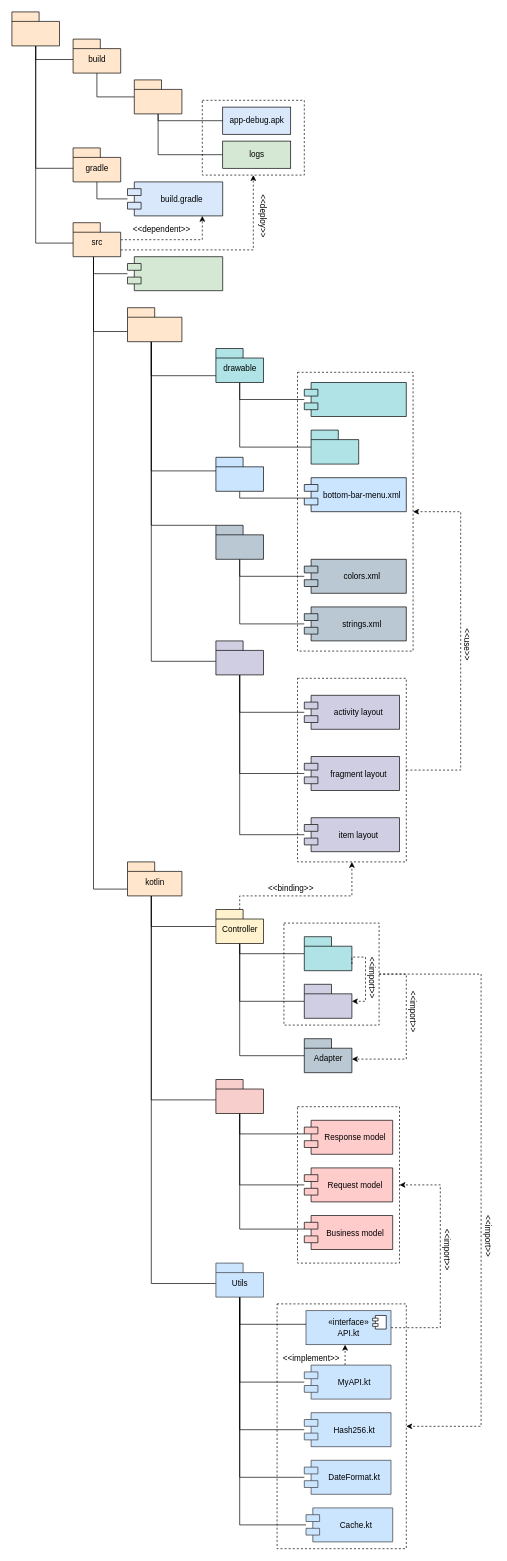
Some shapes in this 507 by 1561 pixel diagram are drawn without their labels. The centre of each missing label's shape, as x and y in pixels:
"Activity" goes at [328,953].
"Android" goes at [35,28].
"AndroidManifest.xml" goes at [175,273].
"Fragment" goes at [328,1001].
"icons" goes at [334,446].
"layout" goes at [239,657].
"logo_t.png" goes at [355,399].
"menu" goes at [239,474].
"Model" goes at [239,1096].
"outputs" goes at [158,96].
"res" goes at [154,324].
"values" goes at [239,542].
